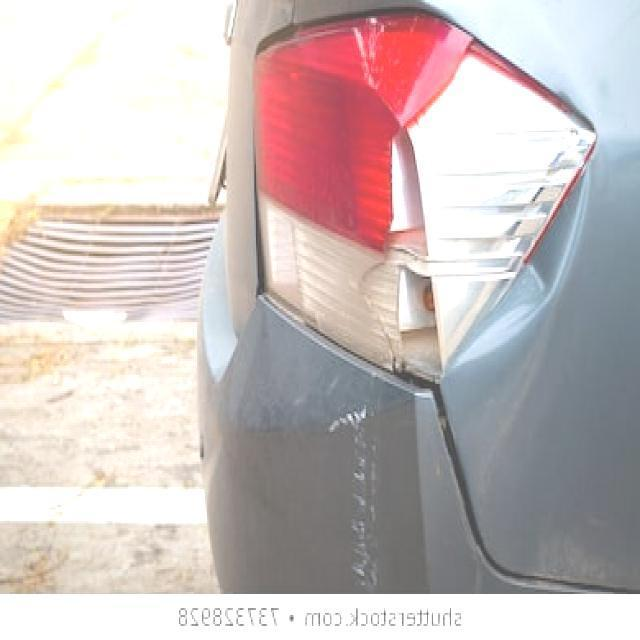minor: (411, 127, 592, 390), (324, 411, 378, 585)
